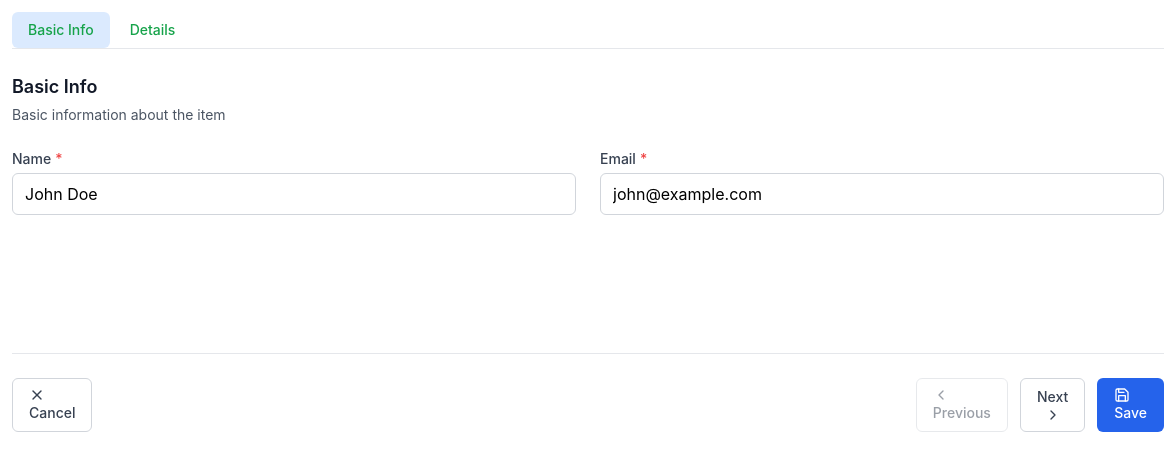
TabbedForm › renders all tabs with correct labels and descriptions
This screenshot has width=1176, height=449.
Expected: the heading "Basic Info" is shown, [12, 76, 97, 97]
Expected: the text "Basic information about the item" is shown, [12, 106, 226, 123]
// Click on Details tab to see its description
Click the button "Details".
click(153, 30)  # box [114, 12, 191, 48]
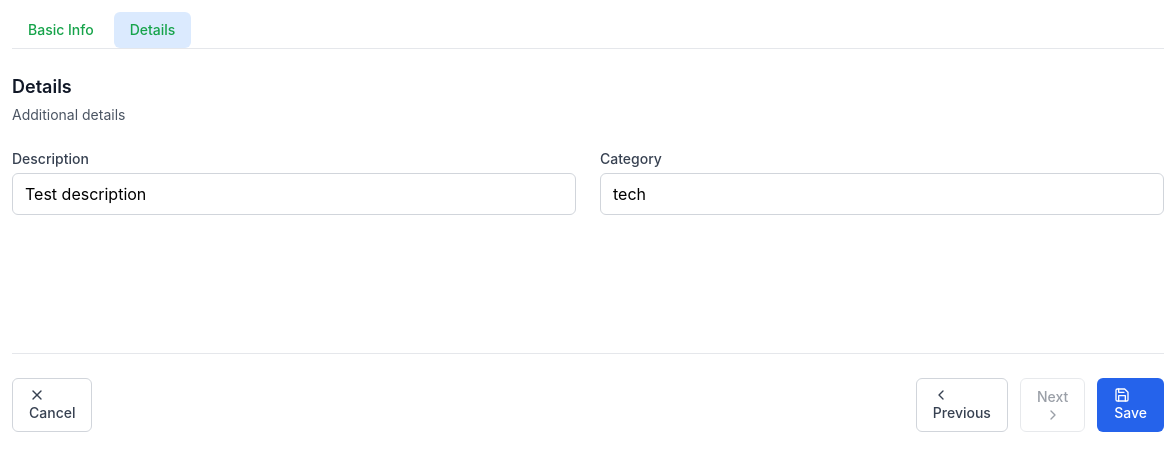
Expected: the text "Additional details" is shown, [12, 106, 125, 123]
